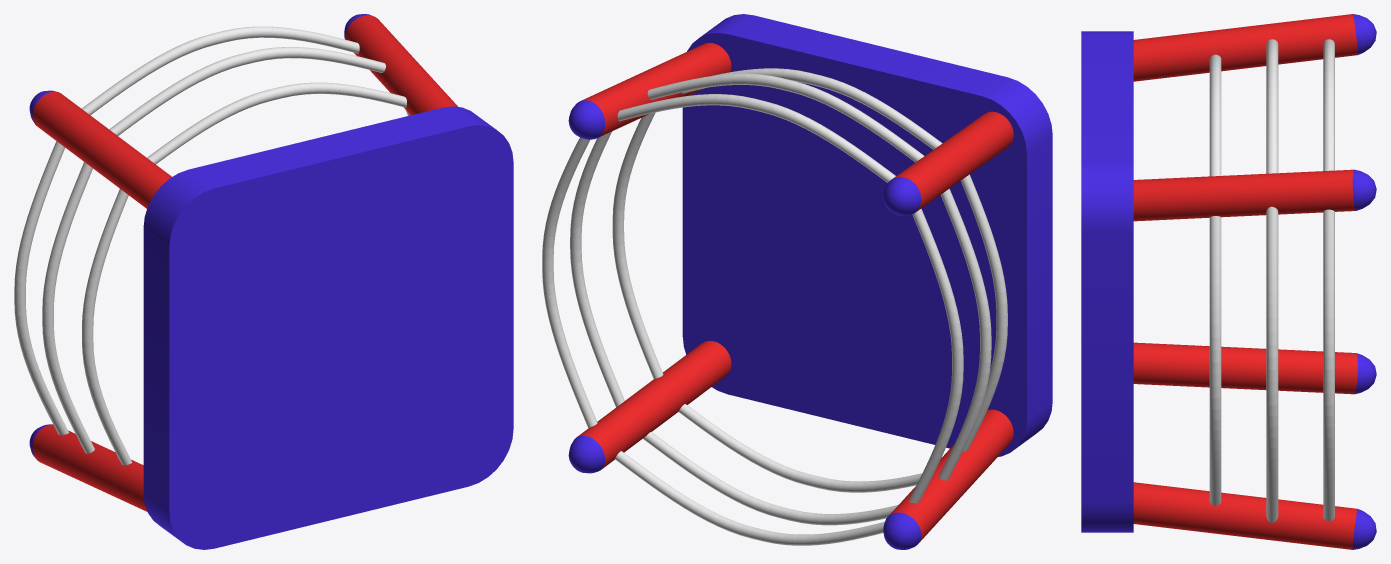
The model's file is Ring .fbx.
3 views of the same model, side by side, from view 1: azimuth 30°, elevation 25°; view 2: azimuth 150°, elevation 25°; view 3: azimuth 270°, elevation 25° (orthographic).
Visible parts, largest first — view 1: ring, Ruber1, Ruber2, Ruber3; view 2: ring, Ruber1, Ruber2, Ruber3; view 3: ring, Ruber2, Ruber3, Ruber1.
Part boxes in pixels (x1=…): ring: x1=29, y1=14, x2=513, y2=549; Ruber1: x1=14, y1=26, x2=410, y2=464; Ruber2: x1=42, y1=47, x2=385, y2=453; Ruber3: x1=82, y1=82, x2=406, y2=465; ring: x1=568, y1=14, x2=1052, y2=549; Ruber1: x1=542, y1=94, x2=963, y2=545; Ruber2: x1=570, y1=73, x2=991, y2=525; Ruber3: x1=612, y1=68, x2=1007, y2=492; ring: x1=1081, y1=14, x2=1376, y2=549; Ruber2: x1=1266, y1=39, x2=1278, y2=522; Ruber3: x1=1209, y1=54, x2=1221, y2=505; Ruber1: x1=1323, y1=39, x2=1334, y2=521.
Size of the model in its own units: 2.82 by 2.82 by 1.69.
